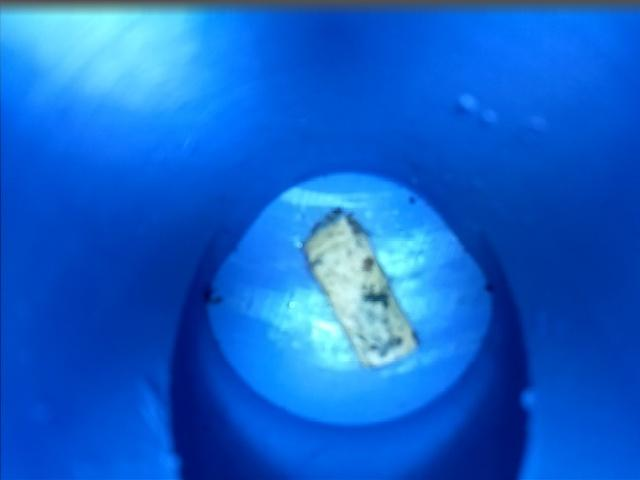megot: (290, 198, 433, 376)
